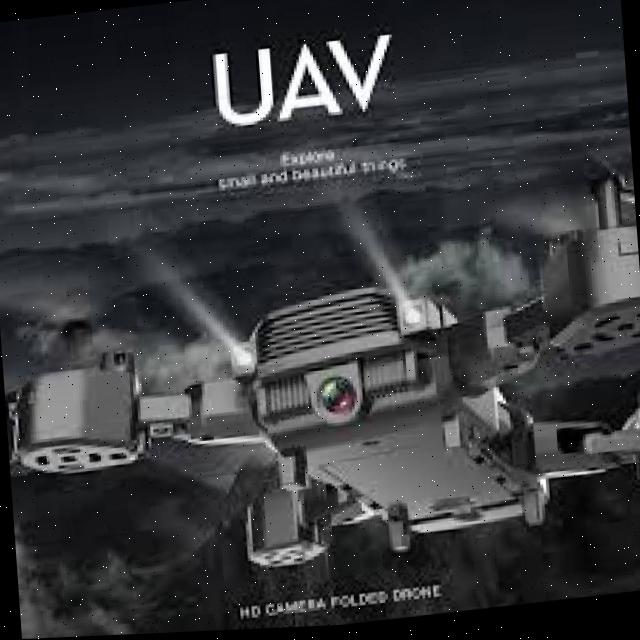drone: (0, 179, 640, 612)
